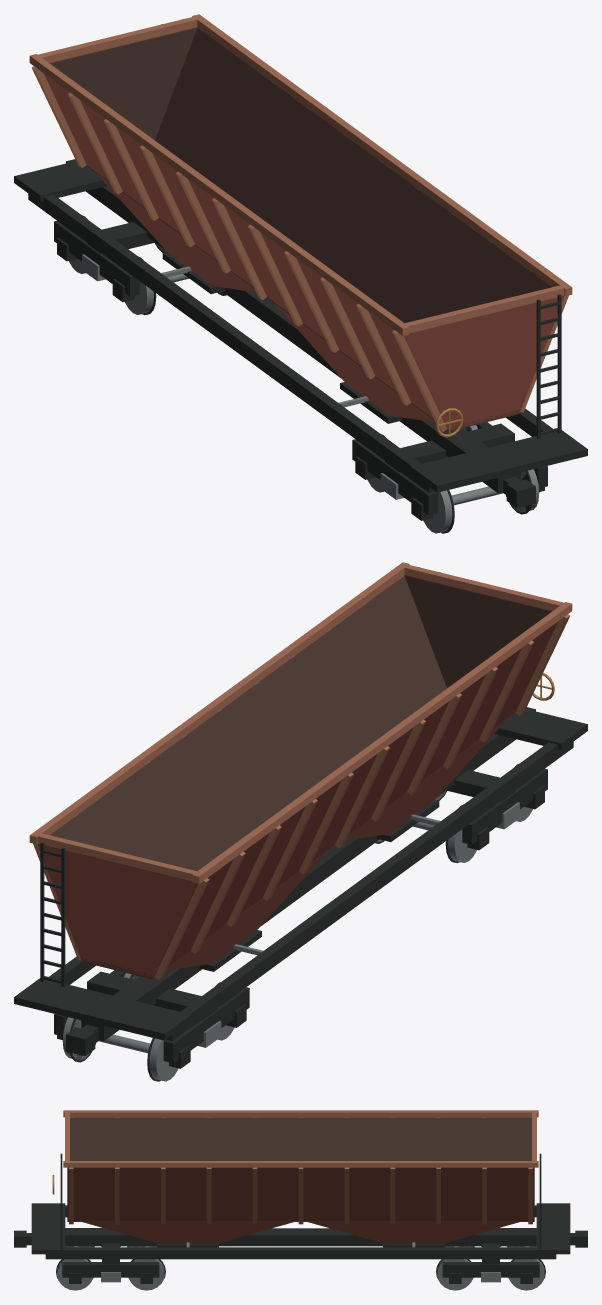
Rendered from open-hopper-1435.glb.
The picture shows the model from 3 angles, top to bottom: view 1: azimuth 30°, elevation 25°; view 2: azimuth 150°, elevation 25°; view 3: azimuth 270°, elevation 25°; orthographic projection. The views are drawn at different scales.
Visible parts, largest first — view 1: inside_1, side_-1, end_1, sill_-1, inside_end_-1, rim_-1, rim_1, end_deck_1, center_sill, sideframe_-1 (×2), discharge_side_2.85_-1, discharge_side_-2.85_-1 (+18 smaller); view 2: inside_1, side_-1, end_-1, sill_-1, inside_end_1, rim_-1, rim_1, end_deck_-1, center_sill, sideframe_-1 (×2), discharge_side_-2.85_-1, discharge_side_2.85_-1 (+18 smaller); view 3: side_1, inside_-1, sill_1, center_sill, rim_-1, rim_1, discharge_side_-2.85_1, discharge_side_2.85_1, sideframe_1 (×2), end_deck_-1, end_deck_1, wheel_-0.9_1 (×2) (+17 smaller).
Part boxes in pixels (bbox=[...]): inside_1: bbox=[155, 28, 551, 323]; side_-1: bbox=[44, 74, 448, 429]; end_1: bbox=[405, 295, 564, 429]; sill_-1: bbox=[28, 193, 434, 492]; inside_end_-1: bbox=[50, 28, 197, 140]; rim_-1: bbox=[29, 54, 409, 335]; rim_1: bbox=[192, 14, 572, 296]; end_deck_1: bbox=[410, 430, 587, 492]; center_sill: bbox=[86, 186, 520, 493]; sideframe_-1 (×2): bbox=[54, 220, 438, 515]; discharge_side_2.85_-1: bbox=[273, 302, 435, 422]; discharge_side_-2.85_-1: bbox=[96, 173, 255, 292]; inside_1: bbox=[50, 576, 446, 871]; side_-1: bbox=[153, 622, 557, 977]; end_-1: bbox=[37, 843, 196, 977]; sill_-1: bbox=[167, 741, 573, 1040]; inside_end_1: bbox=[404, 576, 551, 688]; rim_-1: bbox=[192, 602, 572, 883]; rim_1: bbox=[29, 562, 409, 844]; end_deck_-1: bbox=[14, 978, 191, 1040]; center_sill: bbox=[81, 734, 515, 1041]; sideframe_-1 (×2): bbox=[163, 768, 547, 1063]; discharge_side_-2.85_-1: bbox=[166, 850, 328, 970]; discharge_side_2.85_-1: bbox=[346, 721, 505, 840]; side_1: bbox=[67, 1167, 534, 1221]; inside_-1: bbox=[70, 1117, 531, 1160]; sill_1: bbox=[45, 1247, 556, 1259]; center_sill: bbox=[65, 1228, 536, 1246]; rim_-1: bbox=[63, 1110, 538, 1117]; rim_1: bbox=[63, 1161, 538, 1167]; discharge_side_-2.85_1: bbox=[308, 1222, 519, 1243]; discharge_side_2.85_1: bbox=[82, 1222, 293, 1243]; sideframe_1 (×2): bbox=[62, 1262, 539, 1277]; end_deck_-1: bbox=[536, 1203, 570, 1254]; end_deck_1: bbox=[31, 1203, 65, 1254]; wheel_-0.9_1 (×2): bbox=[129, 1259, 544, 1290].
Bounding box in the file's own units: 3.24 × 3.91 × 14.5.
